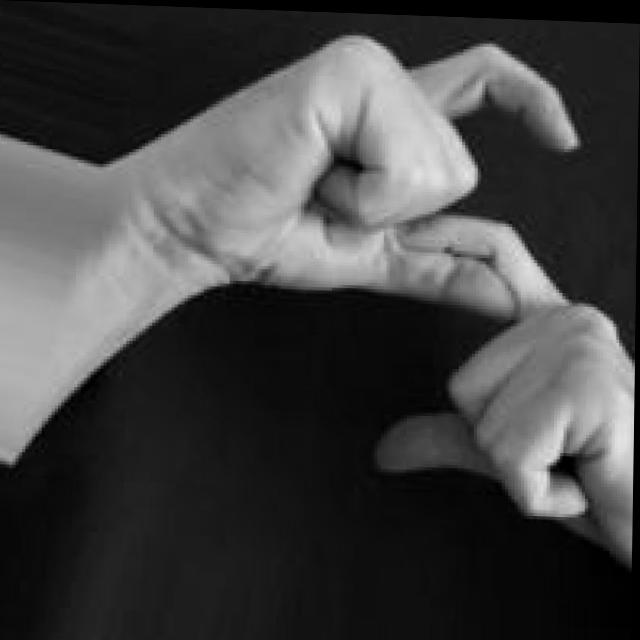S: (107, 17, 640, 584)
